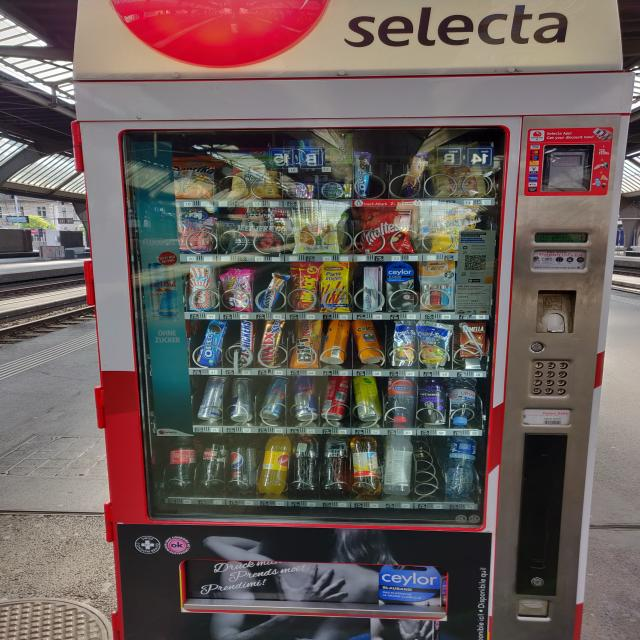bifi_roll__50__4251097402635: (288, 320, 323, 368)
c-swiss_dosenabisicetea__33__9120025930135: (349, 319, 388, 363), (323, 317, 352, 361)
caferoyal_classicmacchiato__33__7617014164487: (415, 378, 449, 426)
caprisun_multivitamin__20__4000177605004: (414, 322, 452, 366), (384, 324, 417, 368)
coke__dose_33__54491472: (318, 376, 349, 422)
coke__flasche_50__54491472: (164, 433, 196, 493)
coke_zero_flasche_50__5449000131836: (198, 436, 228, 490)
comella_schokodrink__33__7613100037253: (459, 321, 487, 357)
evian___50__3068320353500: (449, 376, 478, 426)
fini_jellykisses_packung_80_1_8410525116704: (221, 268, 254, 310)
fuse_lemon__50__5449000235947: (319, 433, 350, 492)
fuse_lemon_dose_33__5449000235947: (356, 376, 382, 424)
fuse_peach__50__5449000236623: (290, 436, 323, 494)
henniez_blau__33__7610235000442: (444, 436, 480, 495)
henniez_rot__33__7610235000442: (384, 378, 416, 423)
jlbrichard_gauffre__90__5410495002000: (432, 139, 489, 199)
kagi_specialedition__50__7610046000259: (186, 264, 215, 312)
knoppers_riegel____4035800488808: (256, 272, 288, 313)
lorenz_nicnacs__40__4018077798818: (292, 262, 320, 314)
malburner_partysticks__40__7610200279682: (317, 262, 352, 312)
maltesers___100__5000159023061: (366, 207, 419, 254)
oreo___66__84100733: (193, 322, 226, 366)
pepsi_max__50__4060800105943: (226, 432, 260, 494)
ramseier_schorle__50__7610057012456: (354, 437, 379, 494)
redbull___33__90162909: (196, 374, 230, 422), (230, 376, 256, 425), (294, 376, 320, 421)
redbull_light__33__90162800: (259, 378, 292, 422)
sinalco_orange__50__4018715000112: (256, 435, 294, 495)
skittles_sour_riegel_51_1_0000000000004: (325, 131, 356, 163)
snickers___50__5000159461122: (237, 320, 257, 364)
stimorol_spearmint_riegel_14_1_0000000000005: (317, 182, 352, 196)
stimorol_wildcherry_riegel_14_1_57060330: (286, 182, 317, 197)
twix___50__5000159459228: (255, 317, 288, 367)
vitaminwell_reload__50__7350042716388: (378, 432, 416, 498)
